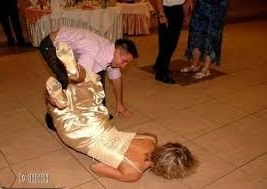fall: (37, 85, 201, 181)
not_fallen: (38, 25, 145, 88), (139, 0, 192, 83), (180, 0, 232, 81)
